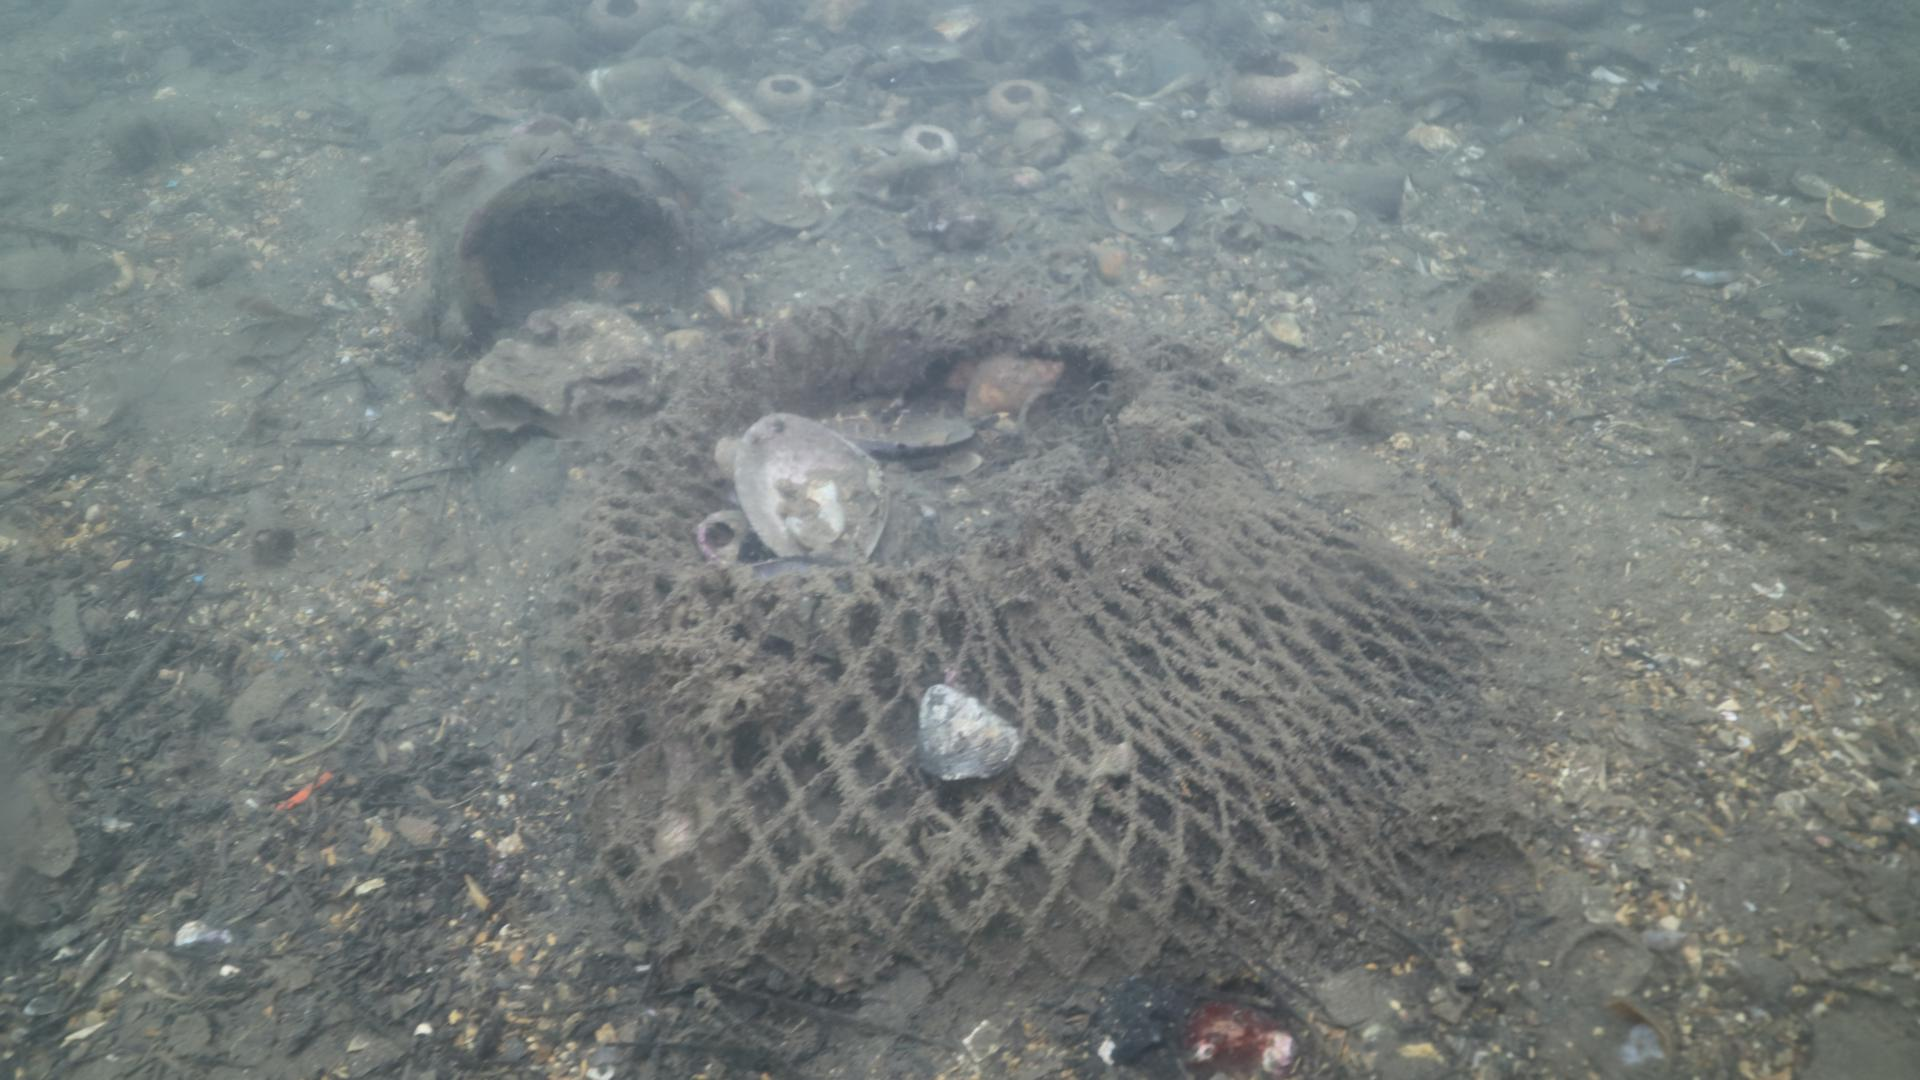fish net: (576, 291, 1489, 997)
